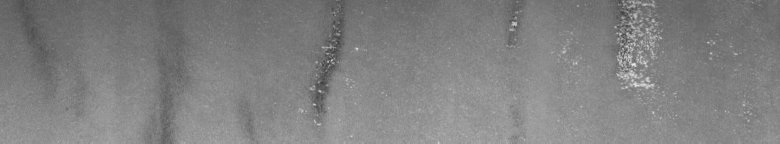hc: (286, 5, 367, 126)
